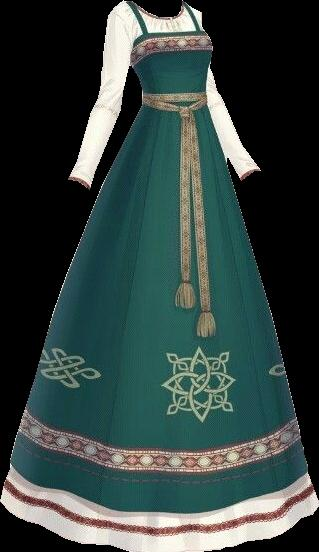Bodice: (109, 0, 212, 111)
Hemline: (0, 496, 318, 551)
Neckline: (128, 1, 203, 46)
Skirt: (1, 103, 318, 551)
Sleeve: (68, 12, 130, 188)
Sleeveline: (109, 13, 135, 49)
Waistline: (141, 100, 207, 116)
